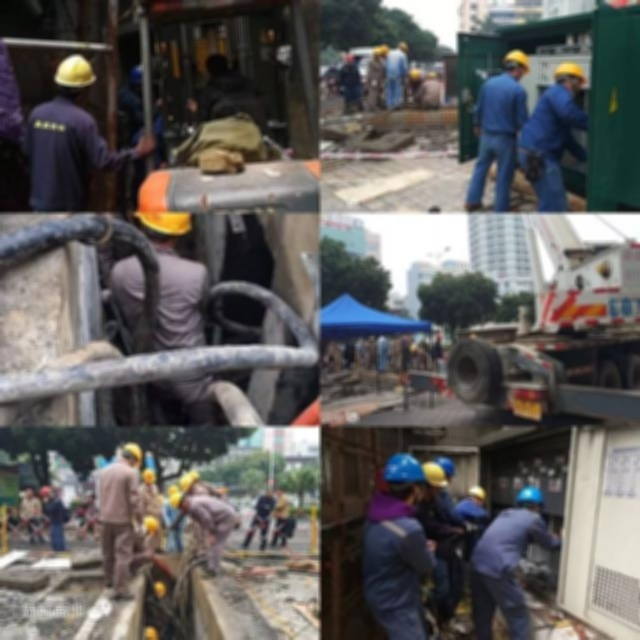Con_Casco: (54, 56, 94, 92), (555, 61, 588, 90), (502, 50, 529, 74)
Sin_Chaleco: (27, 100, 91, 198), (476, 76, 524, 132)
